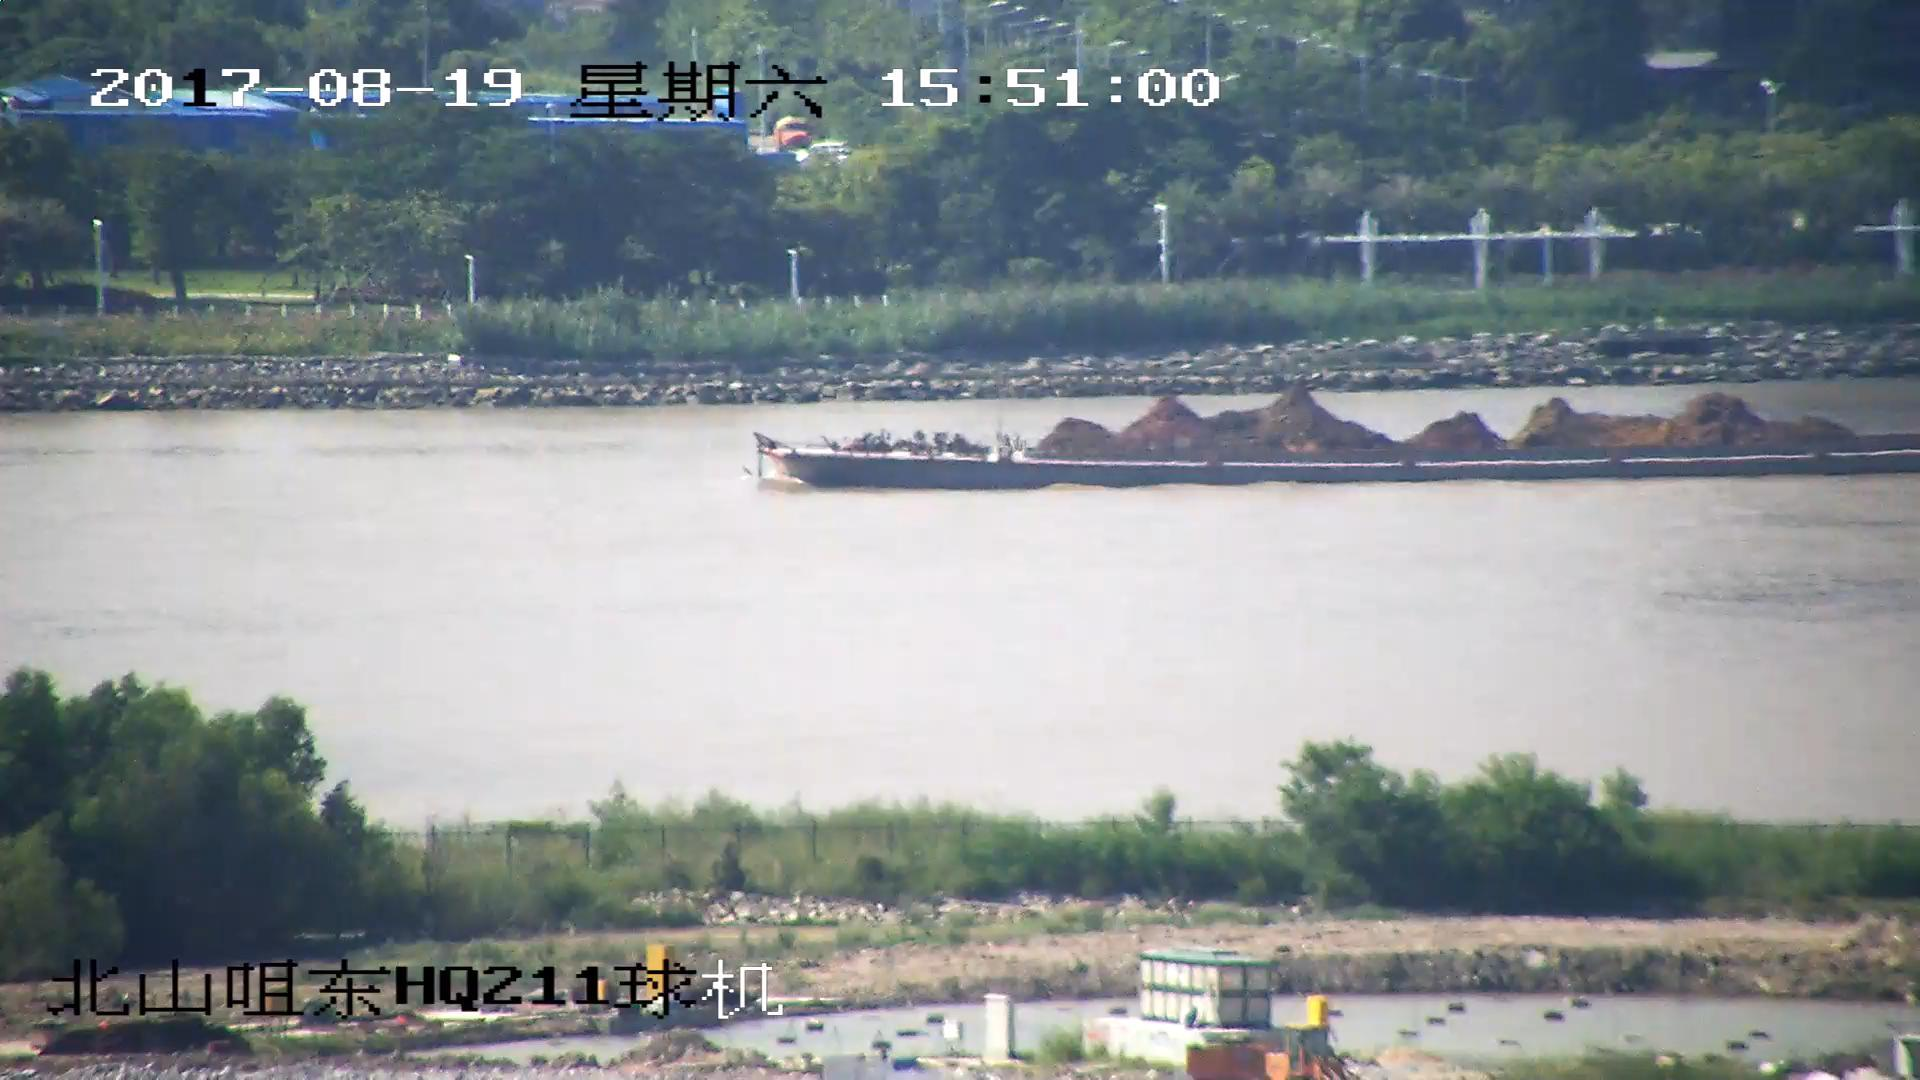Ship: (752, 385, 1920, 491)
